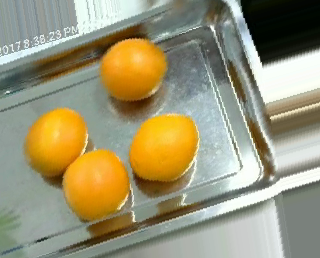Orange: (63, 148, 131, 220), (128, 113, 199, 181), (21, 107, 88, 177), (99, 37, 167, 102)
